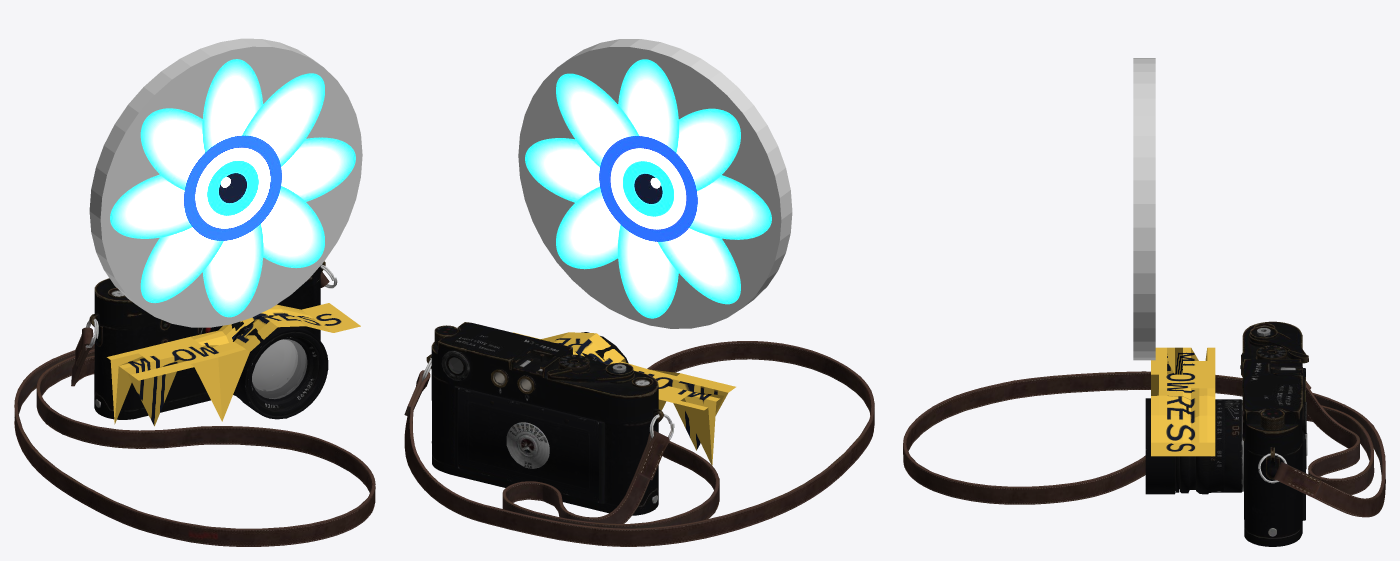
The model's file is nyb_itch_presscam.glb.
3 views of the same model, side by side, from view 1: azimuth 30°, elevation 25°; view 2: azimuth 150°, elevation 25°; view 3: azimuth 270°, elevation 25° (orthographic).
Visible parts, largest first — view 1: add_eyeflower_cyan.png, Camera_01_strap, Cylinder, stk_lbl_6dee60ac09.png; view 2: Camera_01_strap, add_eyeflower_cyan.png, Cylinder, stk_lbl_6dee60ac09.png; view 3: Camera_01_strap, Cylinder, stk_lbl_6dee60ac09.png.
Boxes of the visible parts, <box> form: add_eyeflower_cyan.png: <box>110,59,355,317</box>; Camera_01_strap: <box>14,261,375,546</box>; Cylinder: <box>89,38,362,327</box>; stk_lbl_6dee60ac09.png: <box>107,303,360,426</box>; Camera_01_strap: <box>404,322,874,546</box>; add_eyeflower_cyan.png: <box>525,59,771,318</box>; Cylinder: <box>518,39,792,328</box>; stk_lbl_6dee60ac09.png: <box>513,332,735,466</box>; Camera_01_strap: <box>903,321,1385,546</box>; Cylinder: <box>1133,58,1155,360</box>; stk_lbl_6dee60ac09.png: <box>1151,347,1215,456</box>.
Size of the model in its own units: 0.2141 by 0.2403 by 0.2629.
7 materials, 5 textured.
